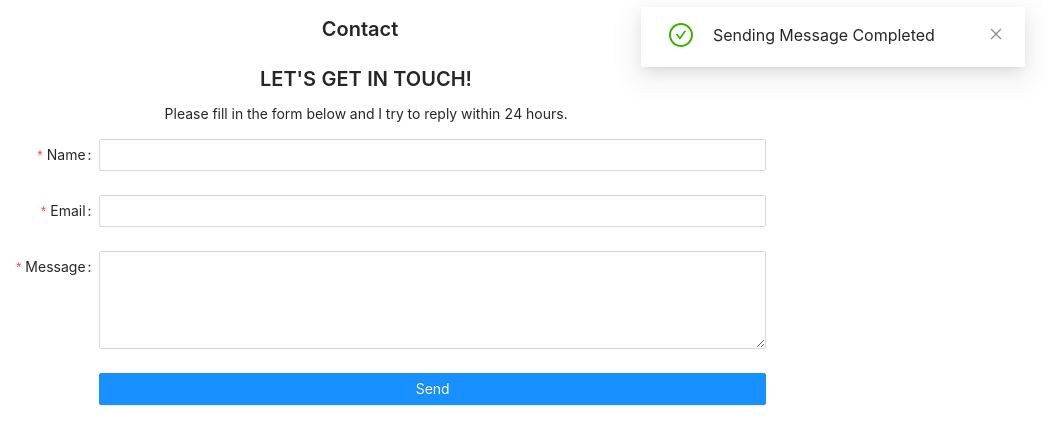
Contact Component › email is valid before sending
The width and height of the screenshot is (1047, 424).
Type "Test User" into the field with id "name".
click(433, 155); type("Test User")  # box [99,139,766,171]
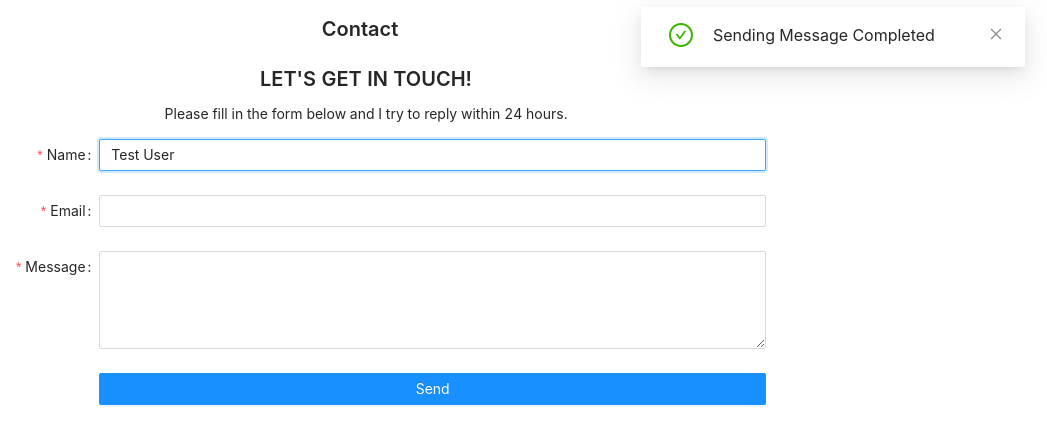
Type "test@test" into the field with id "email".
click(433, 211); type("test@test")  # box [99,195,766,227]
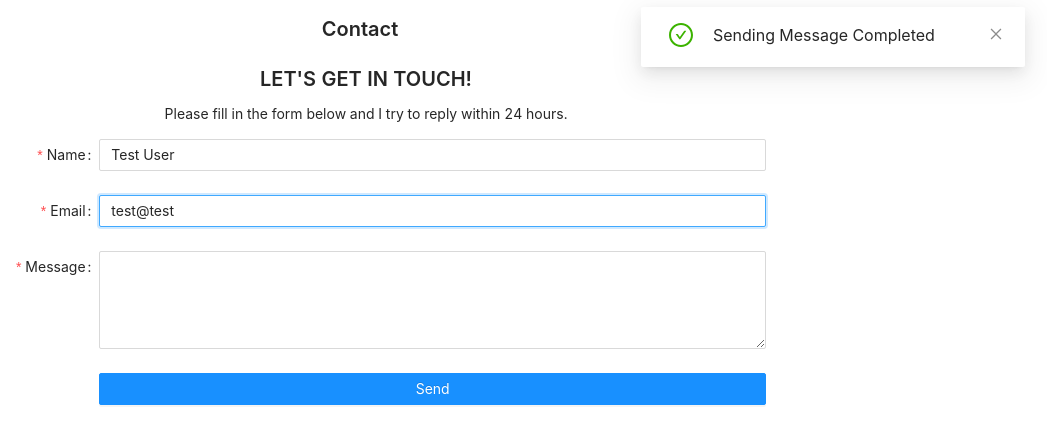
Type "Test message" into the text box with id "message".
click(433, 300); type("Test message")  # box [99,251,766,349]
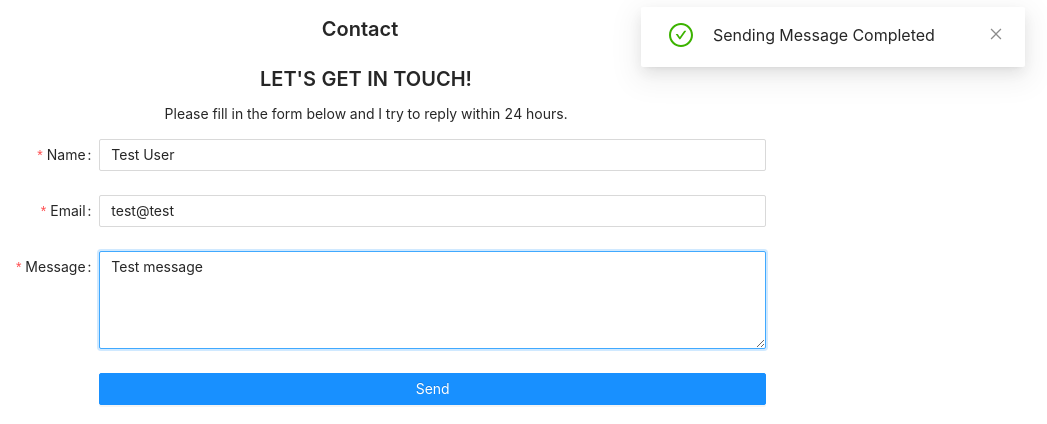
Click the button "Send".
click(433, 389)  # box [99,373,766,405]
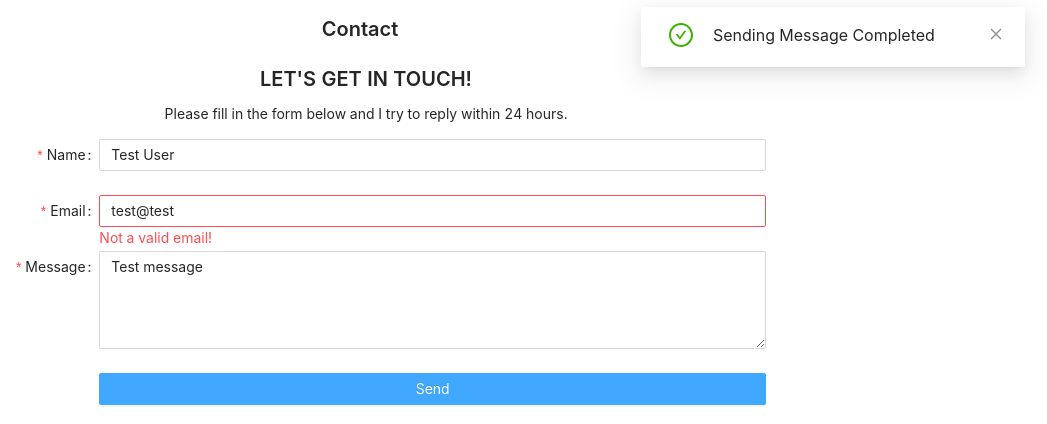
Check: the text "Not a valid email!" is shown, box [99,229,212,246]
